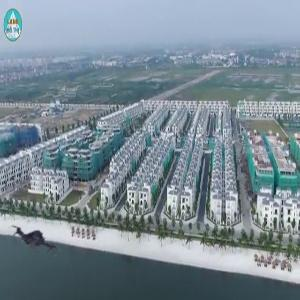drone: (3, 212, 63, 272)
